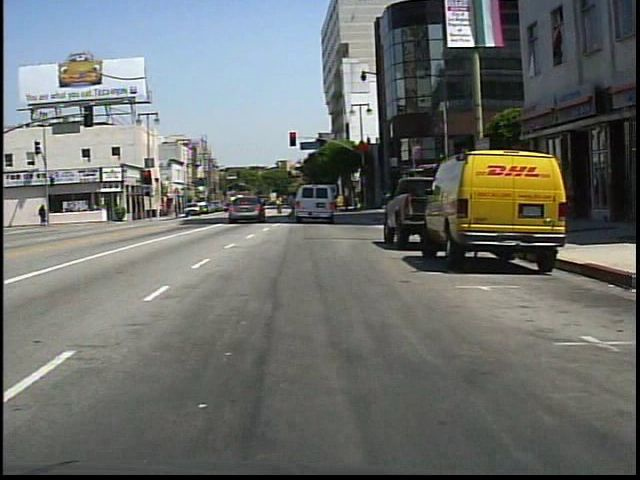person: (283, 191, 297, 223), (272, 194, 285, 218), (37, 203, 48, 225)
